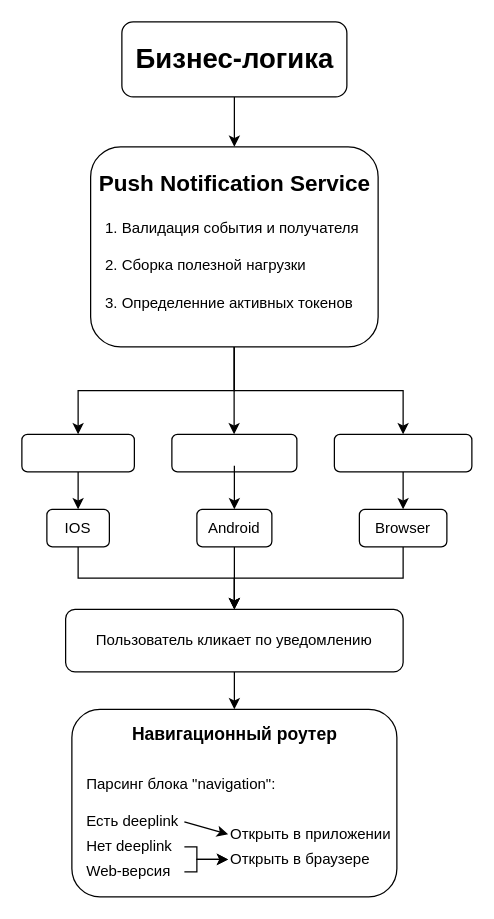
The diagram is 494 pixels wide and 919 high, and some of its shapes have lost their labels. The centre of each missing label's shape, as x and y in pixels:
"APNs (Apple)" belongs at point (77, 452).
"FCM (Google)" belongs at point (234, 452).
"Web Push service" belongs at point (402, 452).
